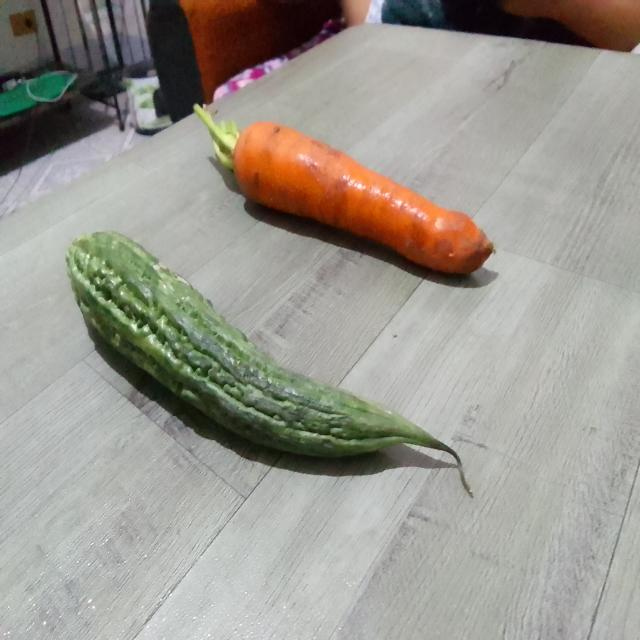ampalaya: (63, 224, 461, 473)
carrot: (187, 92, 498, 286)
